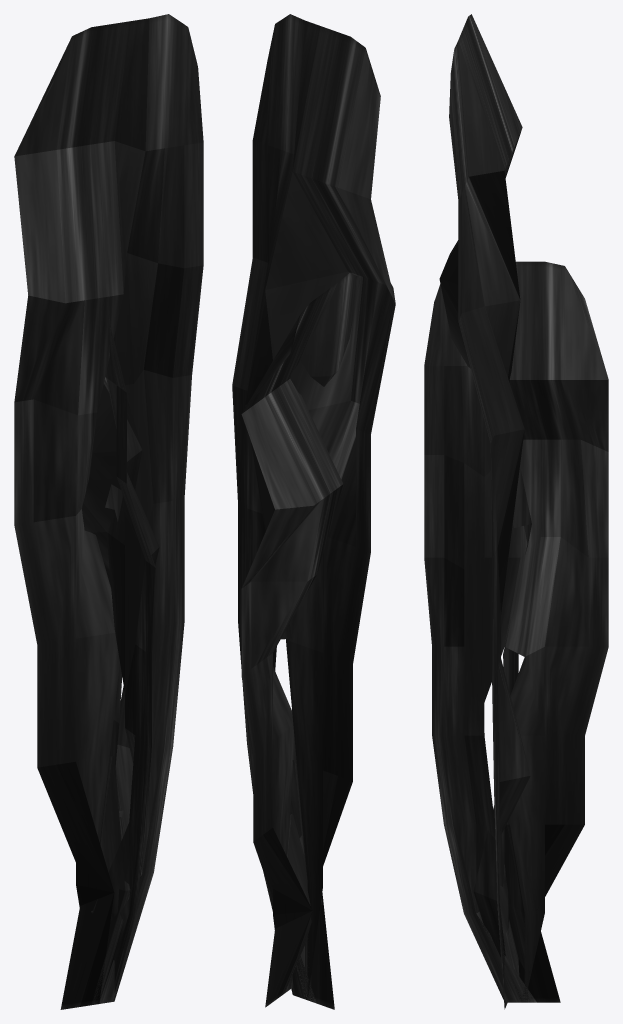
Rendered from smog.fbx.
3 renders of one model, left to right at view 1: azimuth 30°, elevation 25°; view 2: azimuth 150°, elevation 25°; view 3: azimuth 270°, elevation 25°, orthographic. The views are drawn at different scales.
Visible parts, largest first — view 1: Плоскость.001, Плоскость; view 2: Плоскость.001, Плоскость; view 3: Плоскость, Плоскость.001.
Part boxes in pixels (left/top/right/bottom): Плоскость.001: left=14, top=14, right=203, bottom=1009; Плоскость: left=82, top=303, right=159, bottom=992; Плоскость.001: left=232, top=14, right=395, bottom=1009; Плоскость: left=241, top=273, right=360, bottom=1007; Плоскость: left=424, top=261, right=608, bottom=1002; Плоскость.001: left=439, top=14, right=531, bottom=1009.
Size of the model in its own units: 195 by 1111 by 191.
Materials: 2 (2 with a texture image).
